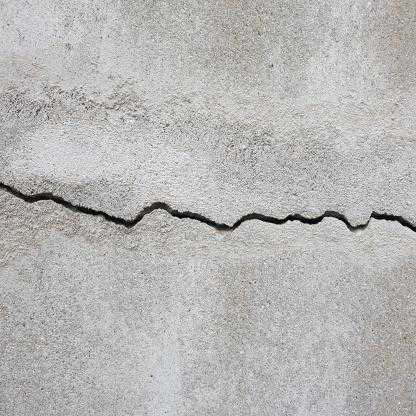crack: (1, 183, 416, 233)
